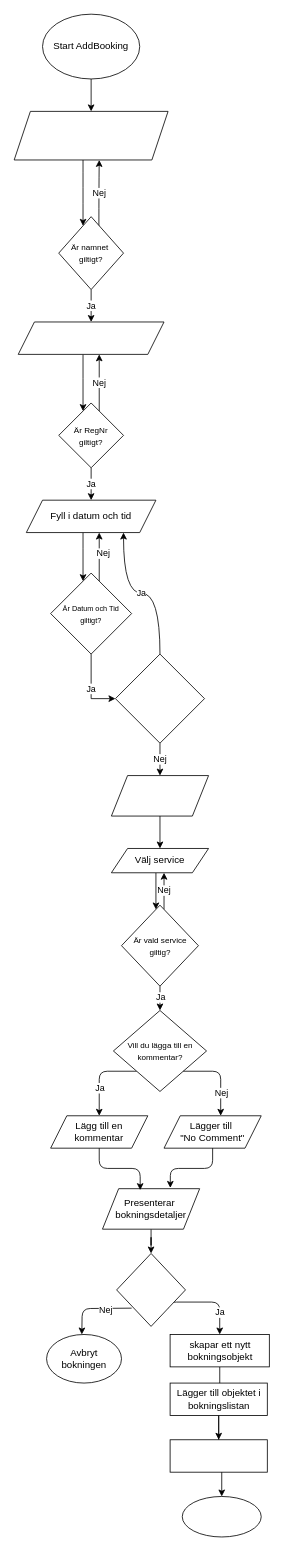
The diagram is 284 pixels wide and 1551 high, and some of its shapes have lost their labels. Here are the shapes that lost their labels. From the top down, the centre of each, then its label:
At (90,135): "Fyll i kundnamn".
At (90,337): "Fyll i registreringnummer".
At (160,698): "Är det en dubbelbokning?".
At (160,795): "Lista tillgängliga servicar".
At (150,1289): "Användaren bekräftar?".
At (218,1455): "plussa på bokningsräknaren".
At (221,1516): "Bokning klar".
